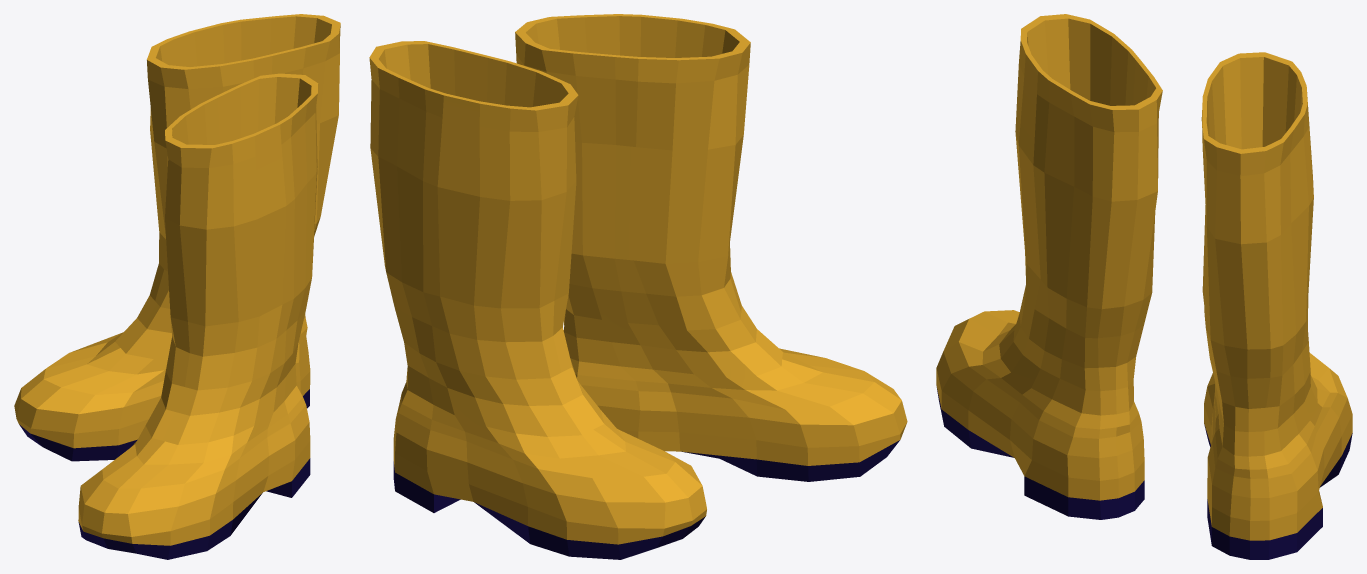
The model's file is rubber boots tidy.fbx.
The picture shows the model from 3 angles, left to right: view 1: azimuth 30°, elevation 25°; view 2: azimuth 150°, elevation 25°; view 3: azimuth 270°, elevation 25°; orthographic projection. The views are drawn at different scales.
Visible parts, largest first — view 1: Plane.001; view 2: Plane.001; view 3: Plane.001.
Boxes of the visible parts, x1,y1,x2,y2 form: Plane.001: (14, 14, 340, 559); Plane.001: (369, 14, 907, 559); Plane.001: (936, 14, 1352, 559).
Size of the model in its own units: 39.16 by 38.05 by 34.07.
